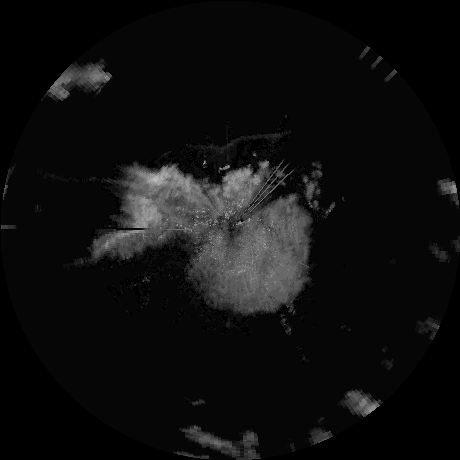frontgust: (188, 132, 291, 153)
